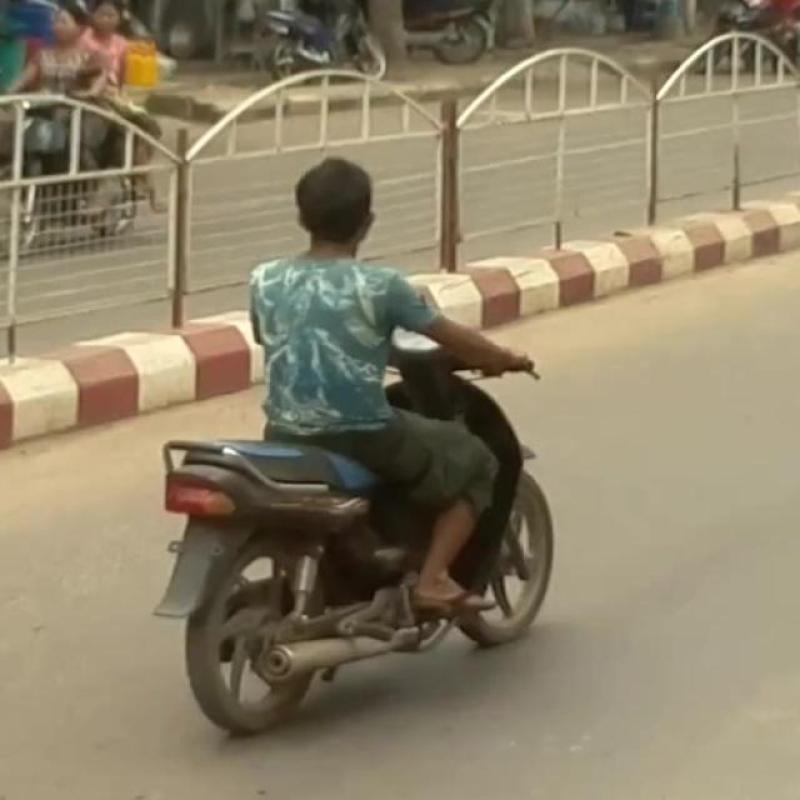nohelmet: (288, 140, 428, 264)
